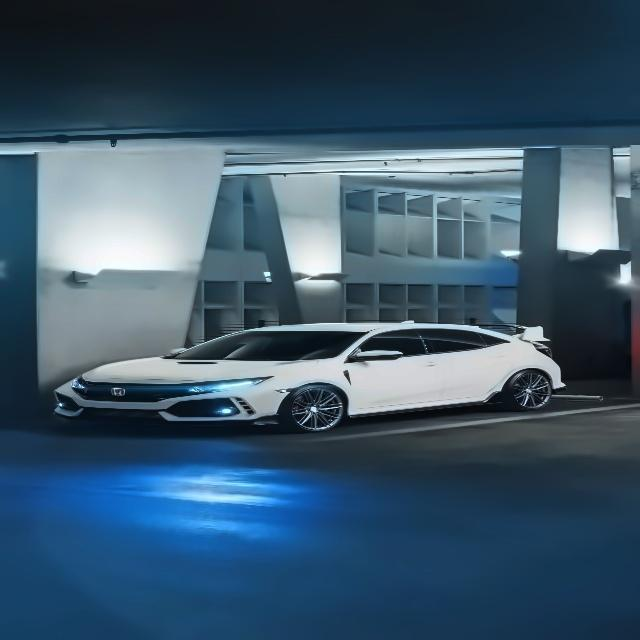Car hood: (81, 356, 318, 385)
Fender - -F-L-: (273, 357, 355, 427)
Fender - -R-L-: (487, 336, 565, 408)
Front bumper: (47, 382, 287, 432)
Headlight - -L-: (189, 374, 273, 394)
Headlight - -R-: (69, 375, 87, 390)
Passenger-s door - -F-L-: (341, 319, 445, 423)
Passenger-s door - -R-L-: (414, 319, 507, 422)
Side bumper - -L-: (347, 391, 505, 430)
Side mirror - -L-: (344, 348, 404, 366)
